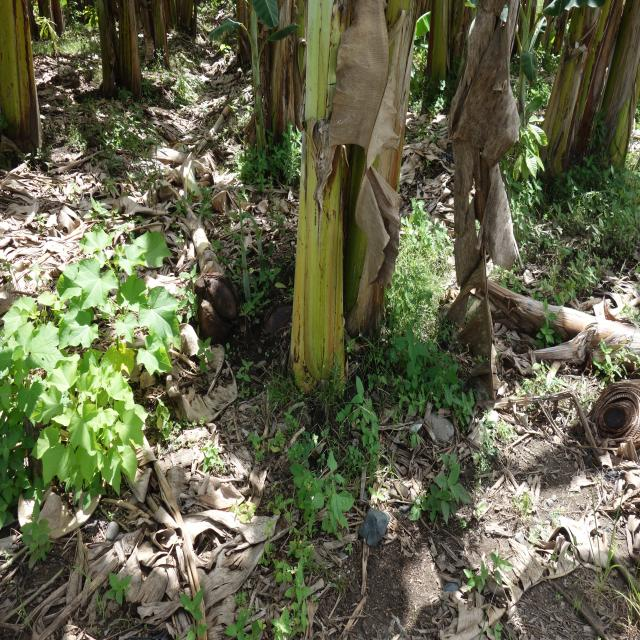Banana-plant: (294, 0, 345, 398), (532, 1, 589, 191)
